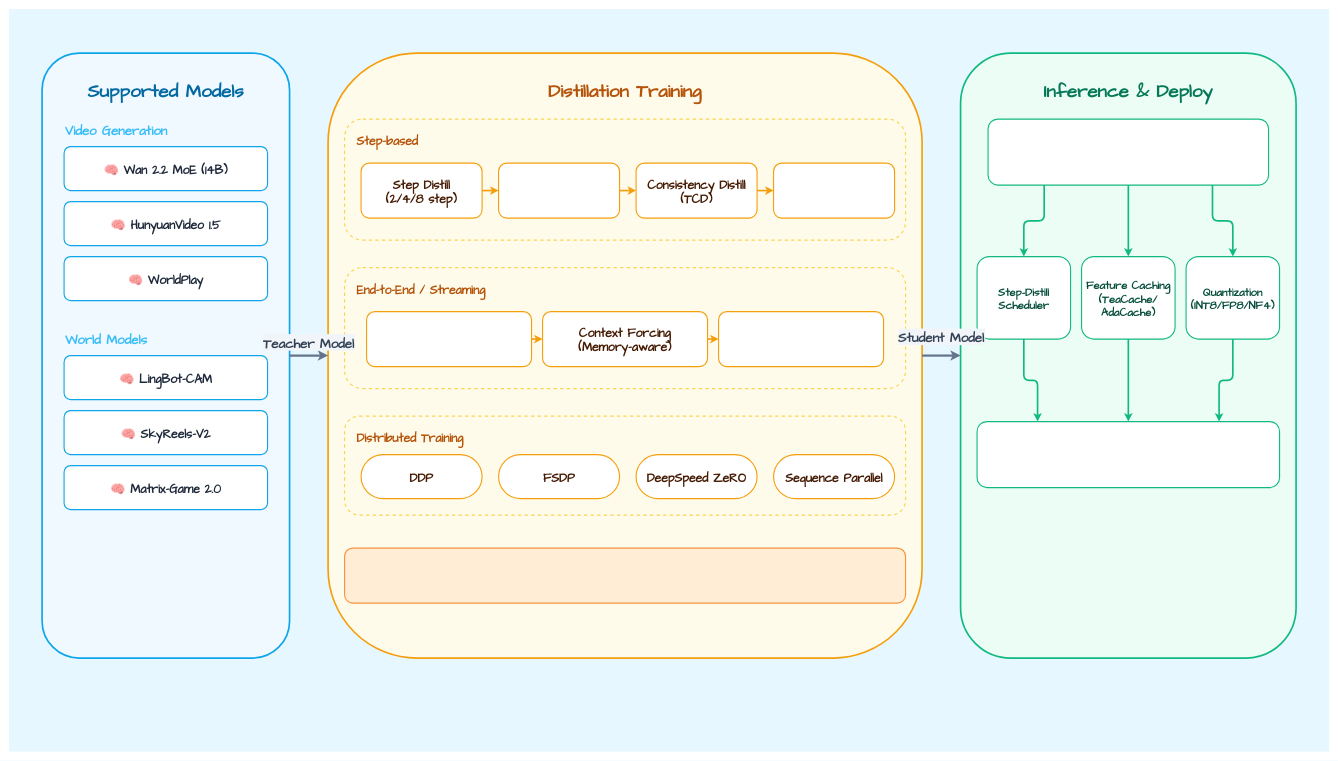
Image size: 1338x761. Some labels were removed from this diagram. Each missing label, with the centre of its shape:
Adversarial Distill (ADD/LADD): point (834, 190)
DMD / DMD2 (Distribution Matching): point (801, 339)
Gradio UI / REST API / ComfyUI: point (1128, 454)
LoRA · Mixed Precision · Gradient Checkpointing · EMA · Validation: point (625, 575)
Multi-GPU Inference Engine (LightX2V): point (1128, 151)
Progressive Distill (N→N/2): point (559, 190)
Stream Distill (Diffusion Forcing): point (449, 339)
